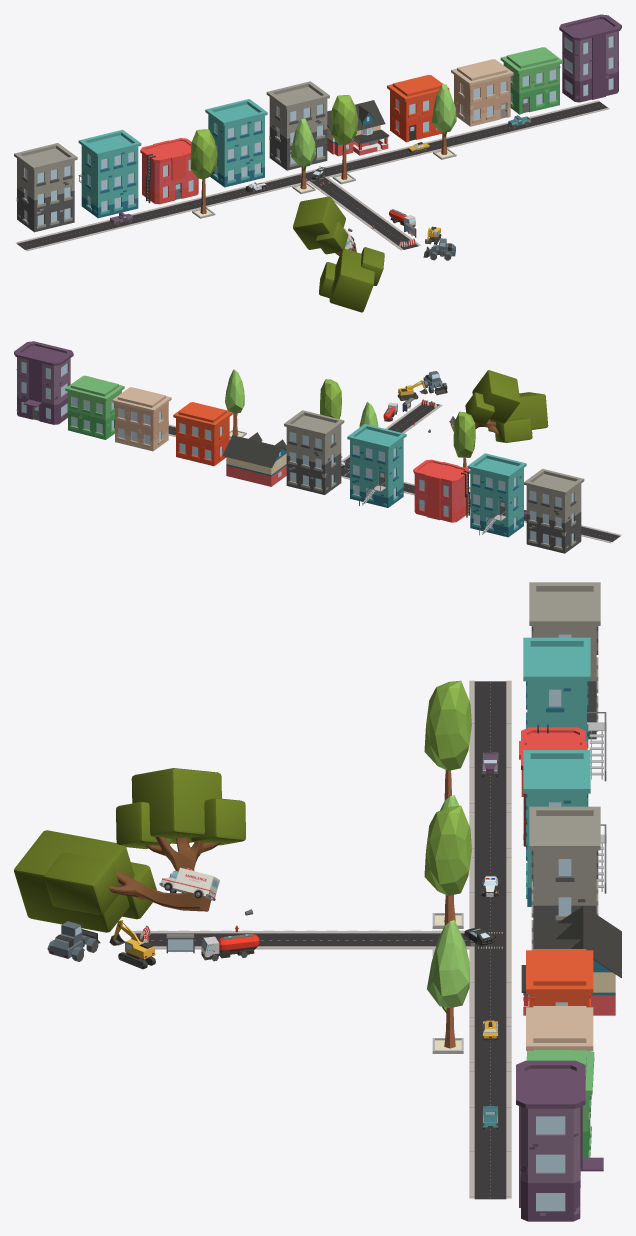
File: crash_scene_2.glb
3 views of the same model, one above another, from view 1: azimuth 30°, elevation 25°; view 2: azimuth 150°, elevation 25°; view 3: azimuth 270°, elevation 25° (orthographic). The views are drawn at different scales.
Parts seen in each view (by area): view 1: Building_2_Mat_0.001, Building_7_Mat_0, Building_3_Mat_0.001, Building_3_Mat_0, Building_2_Mat_0, Building_5_Mat_0, Building_9_Mat_0, Building_6_Mat_0, Tree_1.002, Building_4_Mat_0, Tree_1.001, Building_1_Mat_0 (+5 smaller); view 2: Building_2_Mat_0, Building_2_Mat_0.001, Building_3_Mat_0, Building_3_Mat_0.001, Building_7_Mat_0, Building_9_Mat_0, Building_5_Mat_0, Building_4_Mat_0, Building_6_Mat_0, Building_1_Mat_0, Tree_1.001, Tree_1.002 (+6 smaller); view 3: Tree_1.002, Building_7_Mat_0, Tree_1.001, Building_2_Mat_0, Building_3_Mat_0.001, Building_2_Mat_0.001, Building_3_Mat_0, Building_1_Mat_0, Building_4_Mat_0, Tree_2_Mat_0.001, Tree_2_Mat_0, Tree_1_Mat_0.001 (+7 smaller).
Part boxes in pixels (x1=…): Building_2_Mat_0.001: x1=14, y1=143, x2=77, y2=232; Building_7_Mat_0: x1=559, y1=14, x2=621, y2=102; Building_3_Mat_0.001: x1=78, y1=129, x2=141, y2=218; Building_3_Mat_0: x1=205, y1=99, x2=267, y2=187; Building_2_Mat_0: x1=266, y1=81, x2=329, y2=170; Building_5_Mat_0: x1=451, y1=59, x2=513, y2=126; Building_9_Mat_0: x1=140, y1=138, x2=198, y2=204; Building_6_Mat_0: x1=500, y1=47, x2=562, y2=114; Tree_1.002: x1=319, y1=240, x2=384, y2=312; Building_4_Mat_0: x1=387, y1=75, x2=449, y2=142; Tree_1.001: x1=293, y1=196, x2=348, y2=255; Building_1_Mat_0: x1=327, y1=100, x2=389, y2=156; Building_2_Mat_0: x1=284, y1=410, x2=344, y2=494; Building_2_Mat_0.001: x1=524, y1=468, x2=584, y2=553; Building_3_Mat_0: x1=347, y1=424, x2=406, y2=507; Building_3_Mat_0.001: x1=467, y1=453, x2=526, y2=537; Building_7_Mat_0: x1=14, y1=341, x2=73, y2=424; Building_9_Mat_0: x1=413, y1=459, x2=470, y2=522; Building_5_Mat_0: x1=112, y1=387, x2=171, y2=451; Building_4_Mat_0: x1=173, y1=402, x2=232, y2=466; Building_6_Mat_0: x1=65, y1=375, x2=124, y2=439; Building_1_Mat_0: x1=222, y1=432, x2=286, y2=486; Tree_1.001: x1=465, y1=370, x2=520, y2=428; Tree_1.002: x1=450, y1=392, x2=548, y2=442; Tree_1.002: x1=14, y1=830, x2=211, y2=932; Building_7_Mat_0: x1=516, y1=1060, x2=603, y2=1221; Tree_1.001: x1=116, y1=768, x2=245, y2=893; Building_2_Mat_0: x1=529, y1=806, x2=600, y2=950; Building_3_Mat_0.001: x1=523, y1=637, x2=606, y2=781; Building_2_Mat_0.001: x1=529, y1=582, x2=600, y2=739; Building_3_Mat_0: x1=523, y1=750, x2=606, y2=906; Building_1_Mat_0: x1=521, y1=906, x2=621, y2=1015; Building_4_Mat_0: x1=526, y1=949, x2=593, y2=1007; Tree_2_Mat_0.001: x1=424, y1=805, x2=471, y2=957; Tree_2_Mat_0: x1=424, y1=680, x2=471, y2=800; Tree_1_Mat_0.001: x1=427, y1=920, x2=469, y2=1053.
Bounding box in the file's own units: 60.74 × 10.27 × 28.77.
51 materials, 51 textured.
